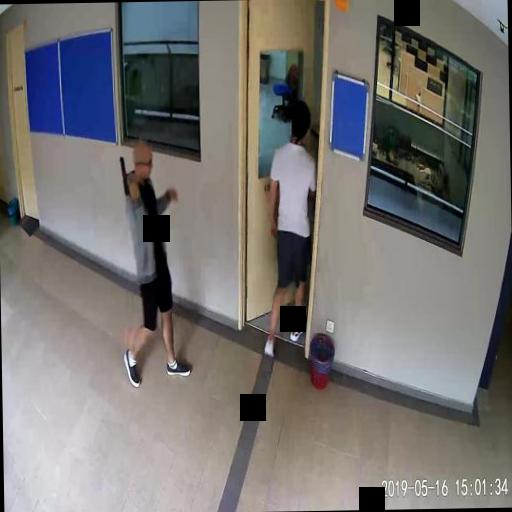Handgun: (118, 154, 136, 194)
